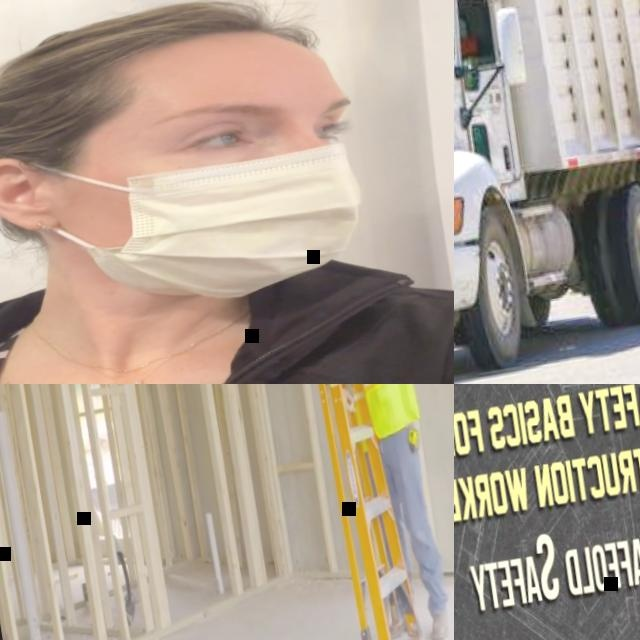Mask: (28, 108, 377, 326)
NO-Hardhat: (0, 0, 338, 133)
NO-Safety Vest: (0, 257, 454, 384)
Person: (0, 0, 454, 384), (312, 384, 454, 640)
Safety Vest: (343, 384, 425, 441)
machinery: (454, 0, 640, 384)
